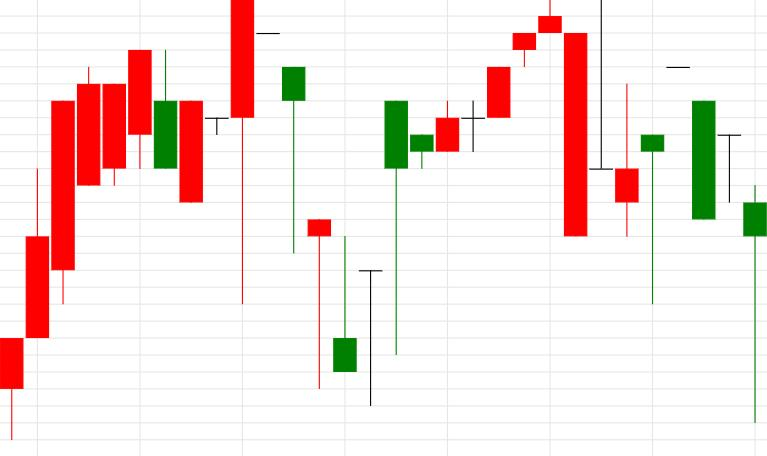inverse_hammer_rise: (232, 0, 357, 389)
